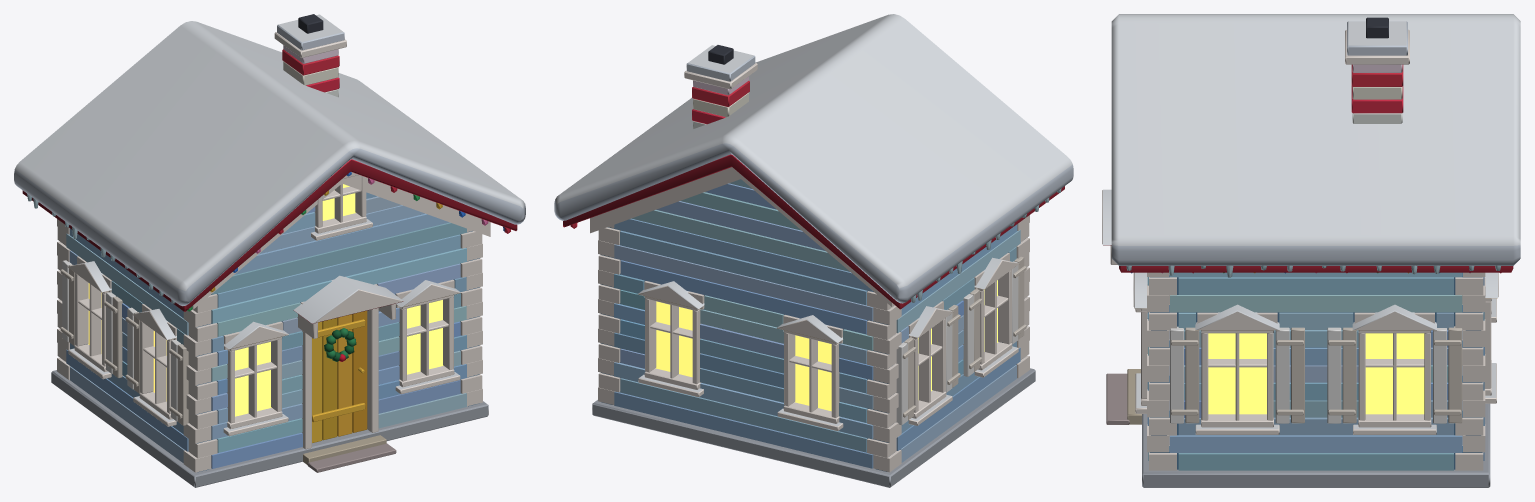
Rendered from CandyHouse_Bungalow.glb.
The picture shows the model from 3 angles, left to right: view 1: azimuth 30°, elevation 25°; view 2: azimuth 150°, elevation 25°; view 3: azimuth 270°, elevation 25°; orthographic projection. The views are drawn at different scales.
Visible parts, largest first — view 1: CandyHouse_Bungalow_Roof, CandyHouse_Bungalow_Walls, CandyHouse_Bungalow_Trim, CandyHouse_Bungalow_Door, CandyHouse_Bungalow_Foundation, CandyHouse_Bungalow_Glow, CandyHouse_Bungalow_Chimney; view 2: CandyHouse_Bungalow_Roof, CandyHouse_Bungalow_Walls, CandyHouse_Bungalow_Trim, CandyHouse_Bungalow_Foundation, CandyHouse_Bungalow_Chimney, CandyHouse_Bungalow_Glow; view 3: CandyHouse_Bungalow_Roof, CandyHouse_Bungalow_Walls, CandyHouse_Bungalow_Trim, CandyHouse_Bungalow_Glow, CandyHouse_Bungalow_Foundation, CandyHouse_Bungalow_Chimney, CandyHouse_Bungalow_Door.
Part boxes in pixels (x1,y1,x2,y2): CandyHouse_Bungalow_Roof: [14, 21, 525, 311]; CandyHouse_Bungalow_Walls: [57, 175, 490, 472]; CandyHouse_Bungalow_Trim: [60, 172, 460, 436]; CandyHouse_Bungalow_Door: [293, 275, 403, 472]; CandyHouse_Bungalow_Foundation: [51, 370, 488, 487]; CandyHouse_Bungalow_Glow: [88, 184, 443, 416]; CandyHouse_Bungalow_Chimney: [274, 14, 346, 97]; CandyHouse_Bungalow_Roof: [554, 14, 1073, 309]; CandyHouse_Bungalow_Walls: [590, 167, 1029, 472]; CandyHouse_Bungalow_Trim: [637, 256, 1026, 431]; CandyHouse_Bungalow_Foundation: [592, 368, 1035, 487]; CandyHouse_Bungalow_Chimney: [684, 45, 757, 129]; CandyHouse_Bungalow_Glow: [655, 280, 997, 411]; CandyHouse_Bungalow_Roof: [1111, 14, 1520, 277]; CandyHouse_Bungalow_Walls: [1147, 272, 1485, 470]; CandyHouse_Bungalow_Trim: [1133, 272, 1498, 434]; CandyHouse_Bungalow_Glow: [1208, 333, 1424, 414]; CandyHouse_Bungalow_Foundation: [1142, 330, 1490, 487]; CandyHouse_Bungalow_Chimney: [1345, 17, 1409, 123]; CandyHouse_Bungalow_Door: [1102, 189, 1141, 424].
Bounding box in the file's own units: 23.2 × 22.03 × 19.95.
